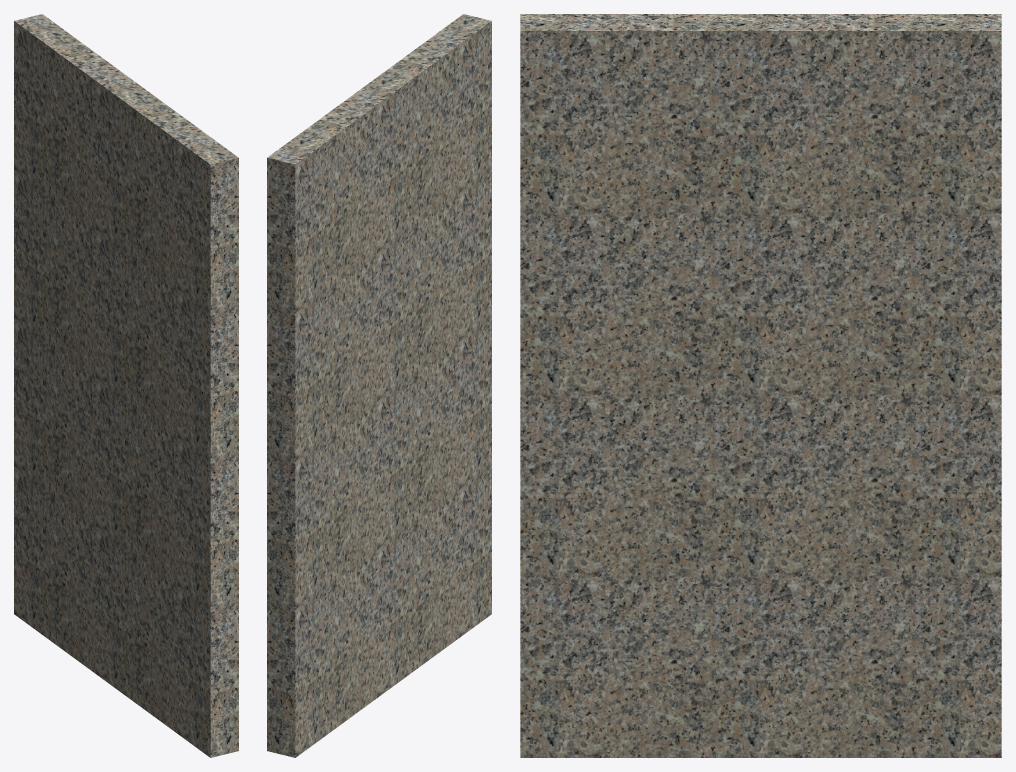
File: Lobby_Wall_15.obj
3 renders of one model, left to right at view 1: azimuth 30°, elevation 25°; view 2: azimuth 150°, elevation 25°; view 3: azimuth 270°, elevation 25°, orthographic. The views are drawn at different scales.
Parts seen in each view (by area): view 1: Lobby_Wall_15; view 2: Lobby_Wall_15; view 3: Lobby_Wall_15.
Part boxes in pixels (x1,y1,x2,y2): Lobby_Wall_15: (14, 14, 238, 757); Lobby_Wall_15: (267, 14, 491, 757); Lobby_Wall_15: (520, 14, 1001, 757).
Size of the model in its own units: 0.2 by 4 by 2.4.
1 material, 1 textured.
